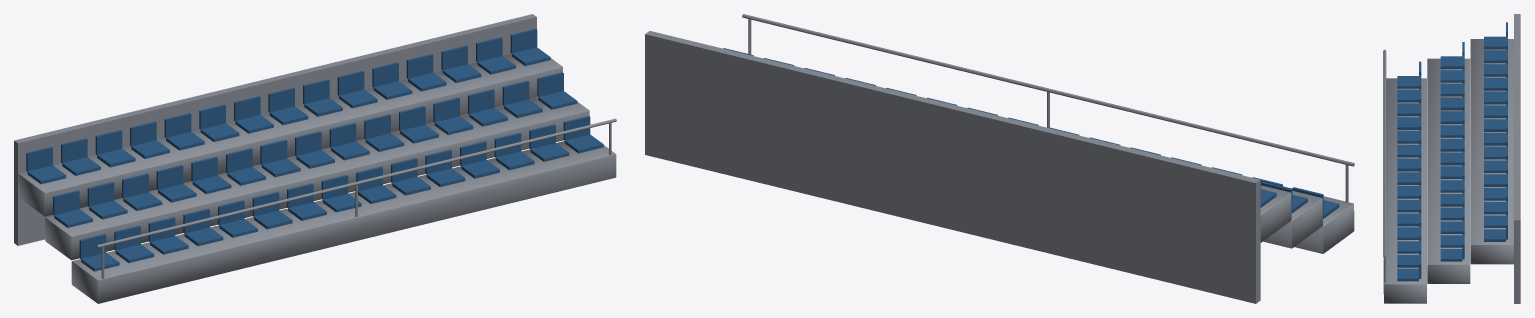
Rendered from arquibancada-90-leve.glb.
The picture shows the model from 3 angles, left to right: view 1: azimuth 30°, elevation 25°; view 2: azimuth 150°, elevation 25°; view 3: azimuth 270°, elevation 25°; orthographic projection. The views are drawn at different scales.
Parts seen in each view (by area): view 1: degrau, degrau.002, degrau.001, muro, corrimao, encosto.032, encosto.039, encosto.018, encosto.023, encosto.034, encosto.044, encosto.016 (+83 smaller); view 2: muro, corrimao, degrau, degrau.001, degrau.002; view 3: degrau.001, degrau.002, degrau, muro, corrimao, assento.018, assento.022, assento.026, assento.006, assento.010, assento.014, assento.030 (+38 smaller).
Boxes of the visible parts, x1,y1,x2,y2 form: degrau: [71, 141, 616, 303]; degrau.002: [18, 53, 562, 216]; degrau.001: [45, 97, 589, 260]; muro: [14, 14, 536, 245]; corrimao: [96, 118, 616, 248]; encosto.032: [95, 130, 122, 154]; encosto.039: [337, 71, 364, 95]; encosto.018: [156, 165, 183, 189]; encosto.023: [329, 123, 356, 147]; encosto.034: [164, 113, 191, 137]; encosto.044: [510, 28, 537, 53]; encosto.016: [87, 182, 114, 206]; muro: [645, 31, 1260, 303]; corrimao: [742, 14, 1354, 166]; degrau: [1283, 186, 1354, 253]; degrau.001: [1263, 190, 1322, 248]; degrau.002: [1260, 185, 1291, 242]; degrau.001: [1427, 58, 1470, 283]; degrau.002: [1470, 39, 1513, 264]; degrau: [1383, 78, 1426, 303]; muro: [1514, 14, 1520, 303]; corrimao: [1383, 49, 1386, 258]; assento.018: [1440, 97, 1462, 110]; assento.022: [1440, 152, 1462, 165]; assento.026: [1440, 207, 1462, 220]; assento.006: [1397, 158, 1418, 171]; assento.010: [1397, 213, 1418, 226]; assento.014: [1397, 268, 1418, 281]; assento.030: [1484, 36, 1505, 49].
Bounding box in the file's own units: 9 × 1.7 × 2.52.
